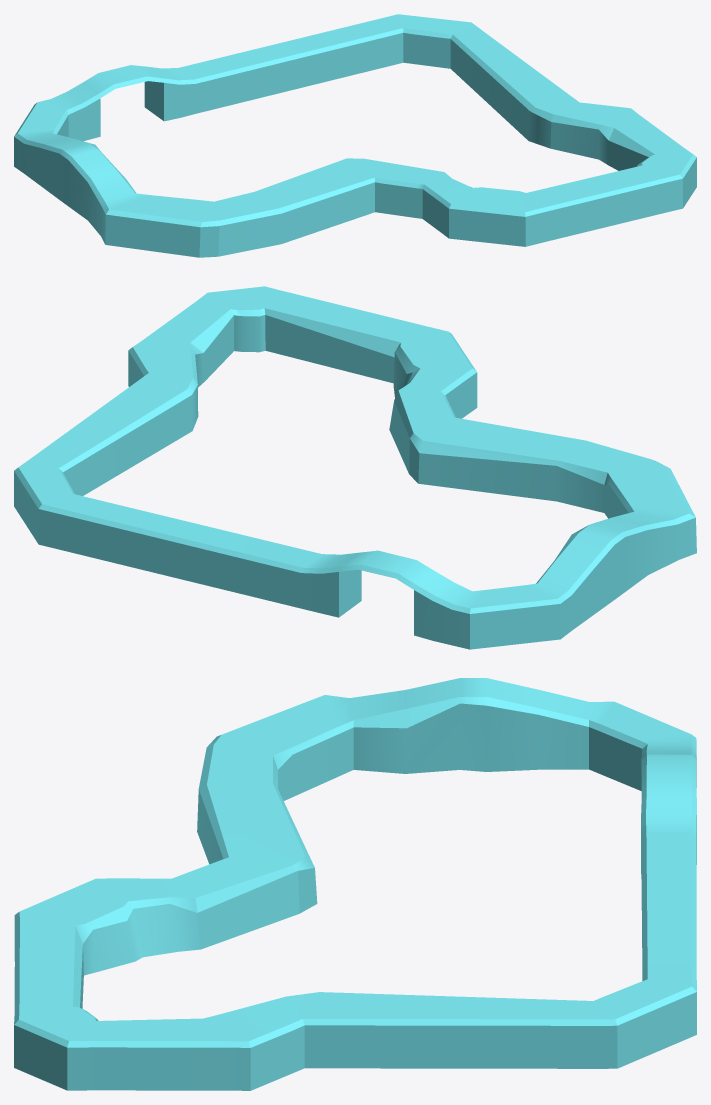
The model's file is SM_IsleLVL1TrainPath_TD_01.fbx.
The picture shows the model from 3 angles, top to bottom: view 1: azimuth 30°, elevation 25°; view 2: azimuth 150°, elevation 25°; view 3: azimuth 270°, elevation 25°; orthographic projection. The views are drawn at different scales.
Parts seen in each view (by area): view 1: TrainPath; view 2: TrainPath; view 3: TrainPath.
Part boxes in pixels (<box>): TrainPath: <box>14,14,696,257</box>; TrainPath: <box>14,286,696,649</box>; TrainPath: <box>14,678,696,1090</box>.
Size of the model in its own units: 3189 by 301 by 2614.
